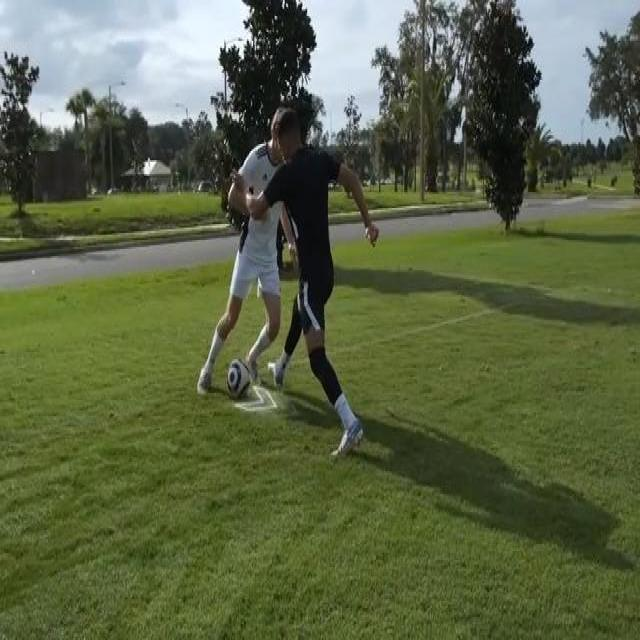Soccer Ball: (224, 354, 250, 404)
